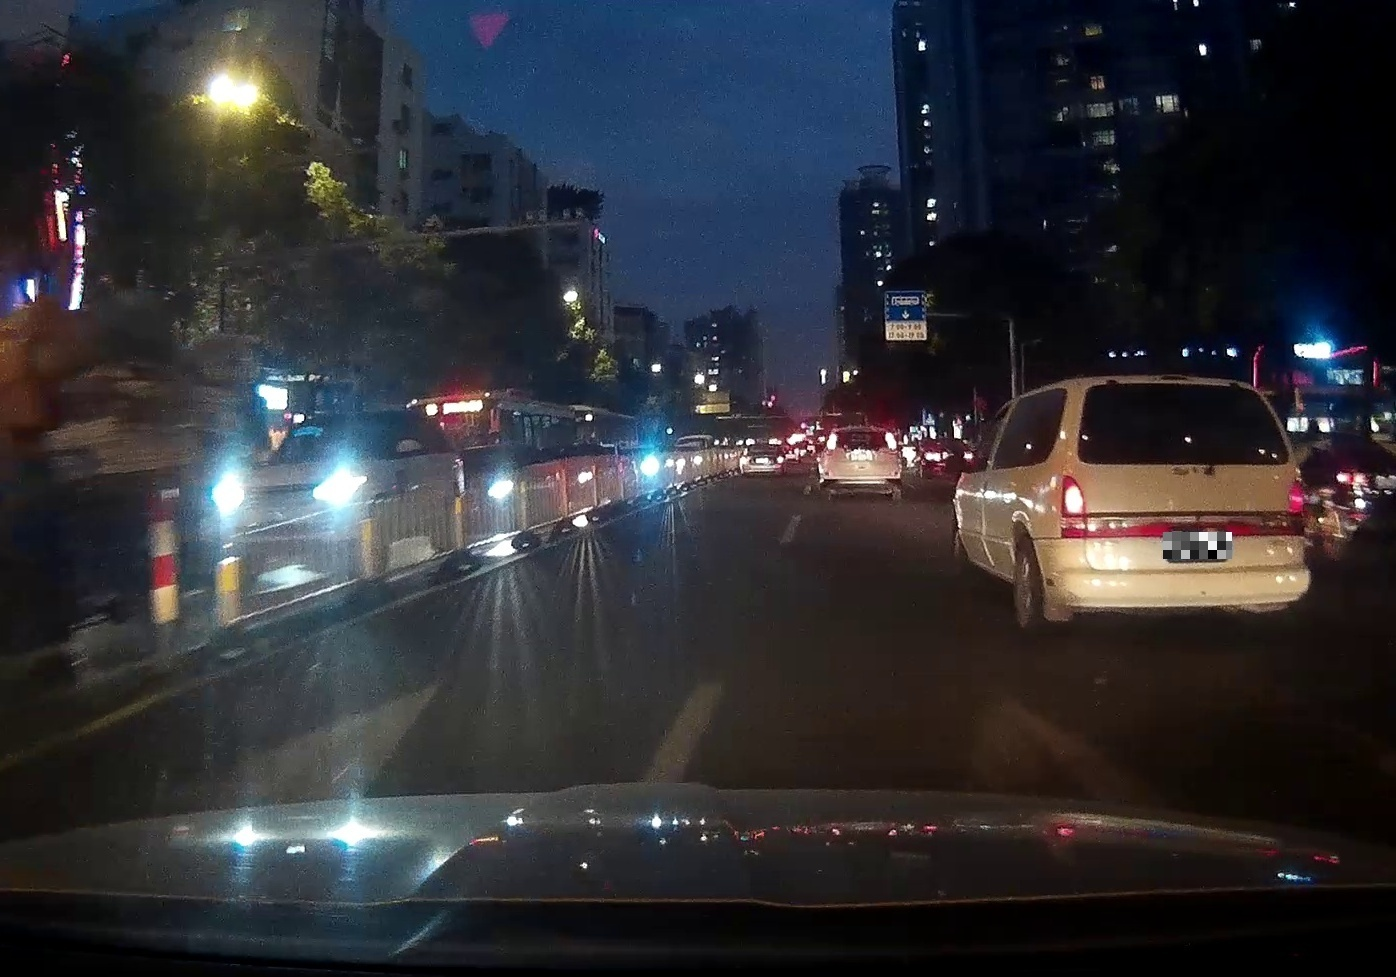L_light: (1060, 475, 1087, 538), (825, 433, 838, 456)
R_light: (1286, 479, 1308, 536), (884, 432, 897, 454)
T_light: (1155, 385, 1199, 392), (851, 428, 871, 430)
night-no: (1050, 376, 1311, 632), (820, 426, 902, 502)
plate_1: (1163, 533, 1232, 559)
